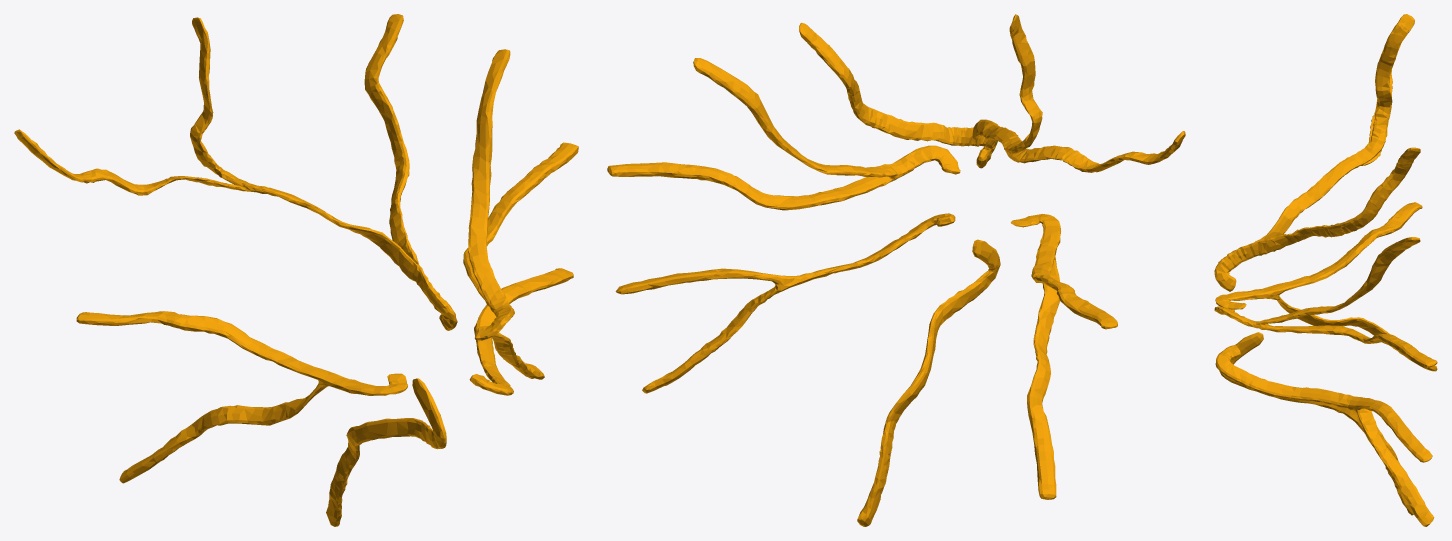
File: LavaRunningBool.glb
The picture shows the model from 3 angles, left to right: view 1: azimuth 30°, elevation 25°; view 2: azimuth 150°, elevation 25°; view 3: azimuth 270°, elevation 25°; orthographic projection. The views are drawn at different scales.
Visible parts, largest first — view 1: LavaRunningBool; view 2: LavaRunningBool; view 3: LavaRunningBool.
Part boxes in pixels (bbox=[...]): LavaRunningBool: bbox=[14, 14, 578, 526]; LavaRunningBool: bbox=[607, 14, 1185, 526]; LavaRunningBool: bbox=[1214, 14, 1437, 526].
Size of the model in its own units: 1.98 by 1.81 by 0.8433.
